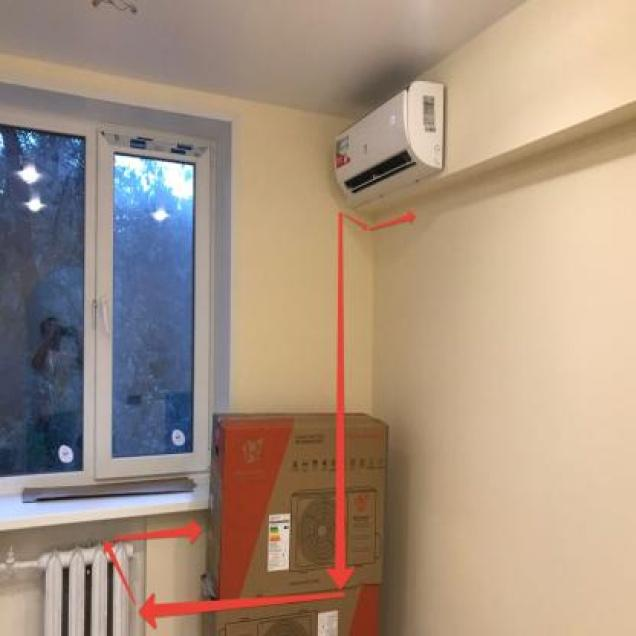AC: (332, 80, 443, 204)
